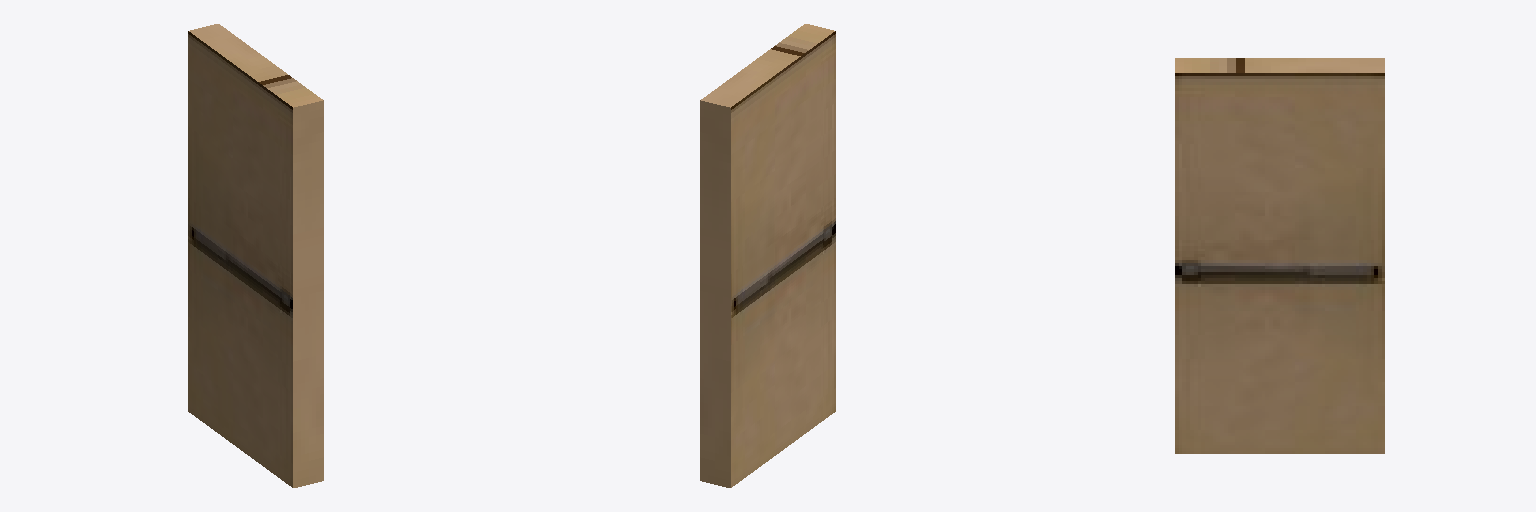
3 renders of one model, left to right at view 1: azimuth 30°, elevation 25°; view 2: azimuth 150°, elevation 25°; view 3: azimuth 270°, elevation 25°, orthographic.
Parts seen in each view (by area): view 1: entity1_brush0; view 2: entity1_brush0; view 3: entity1_brush0.
Boxes of the visible parts, box(x1,y1,x2,y2) form: entity1_brush0: box(188, 24, 323, 487); entity1_brush0: box(700, 24, 835, 487); entity1_brush0: box(1175, 58, 1384, 453).
Bounding box in the file's own units: 8 × 96 × 48.
Materials: 1 (1 with a texture image).